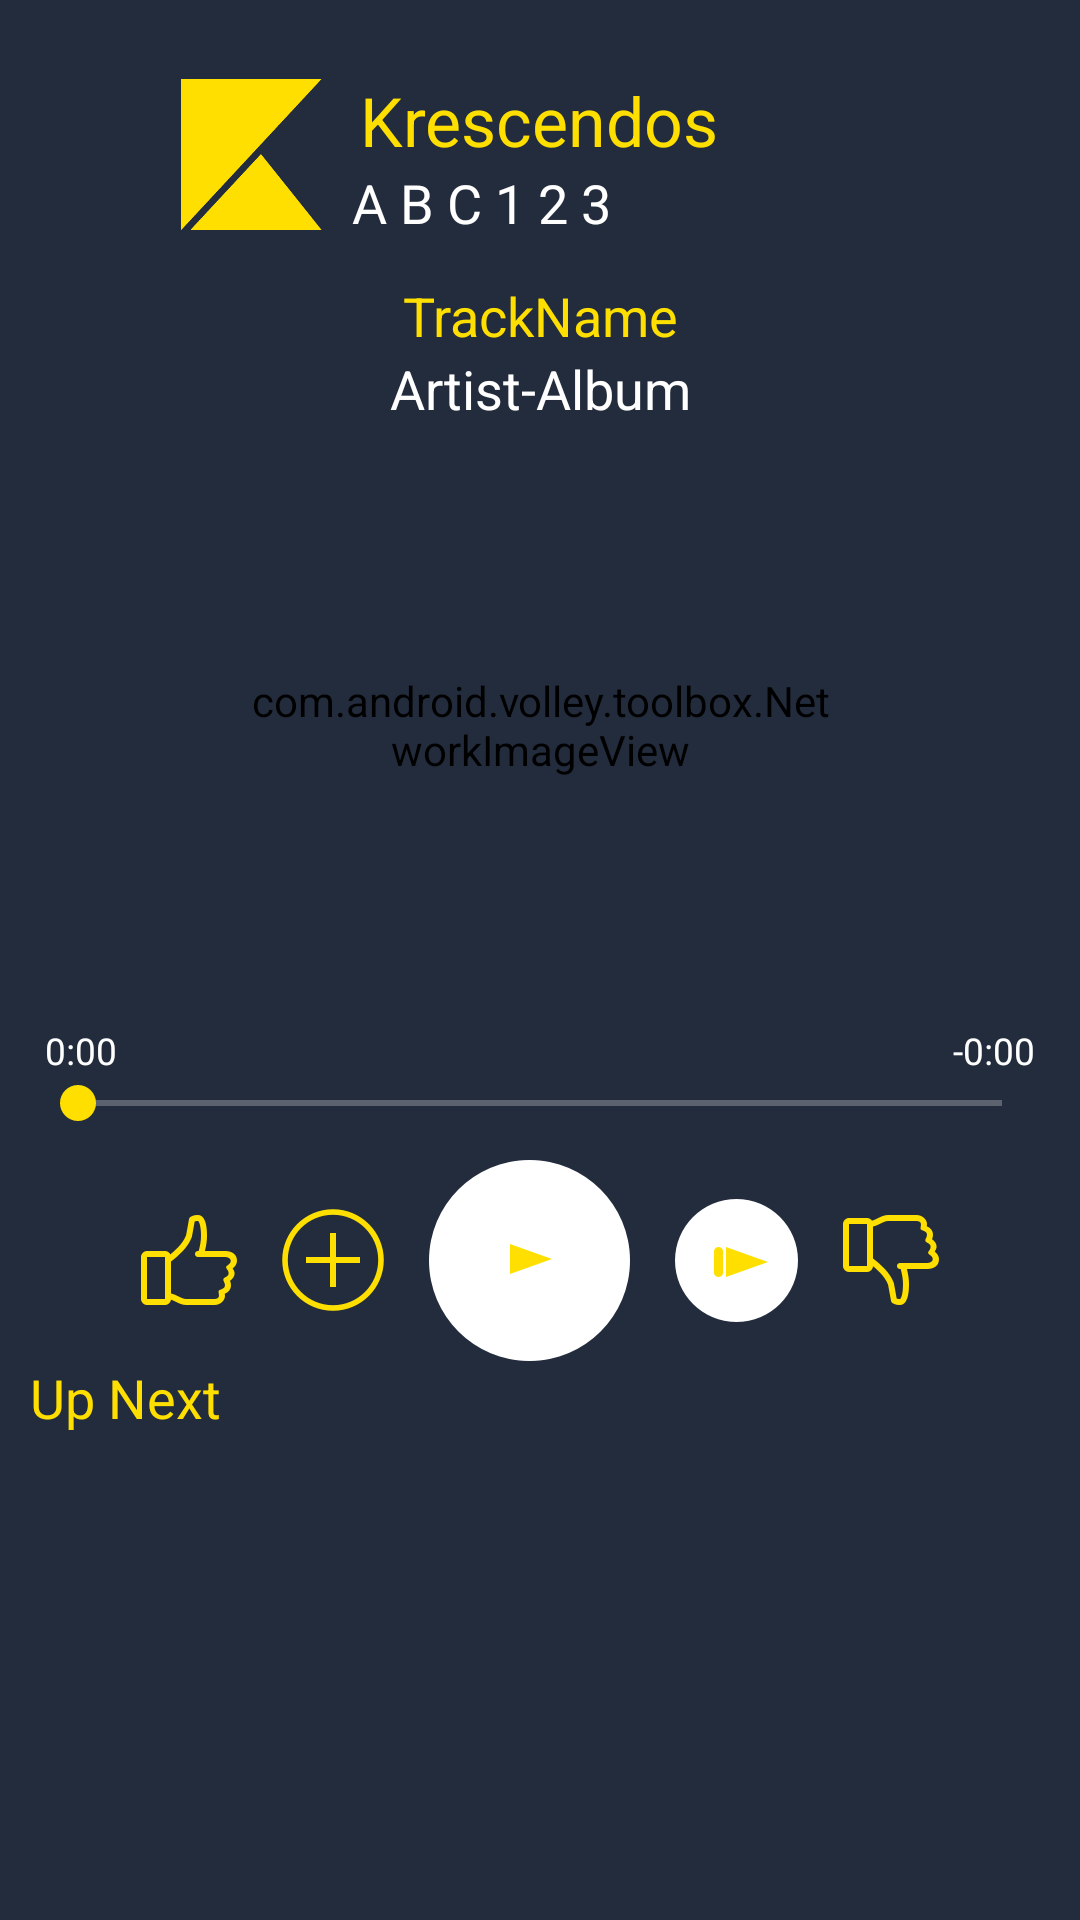

Named icons in this screenshot (1080*1920) and their bounding boxes, (x1, y1, x2, y2):
add: (282, 1209, 384, 1311)
dislike off: (843, 1215, 939, 1305)
like off: (141, 1215, 237, 1305)
play: (429, 1160, 630, 1361)
